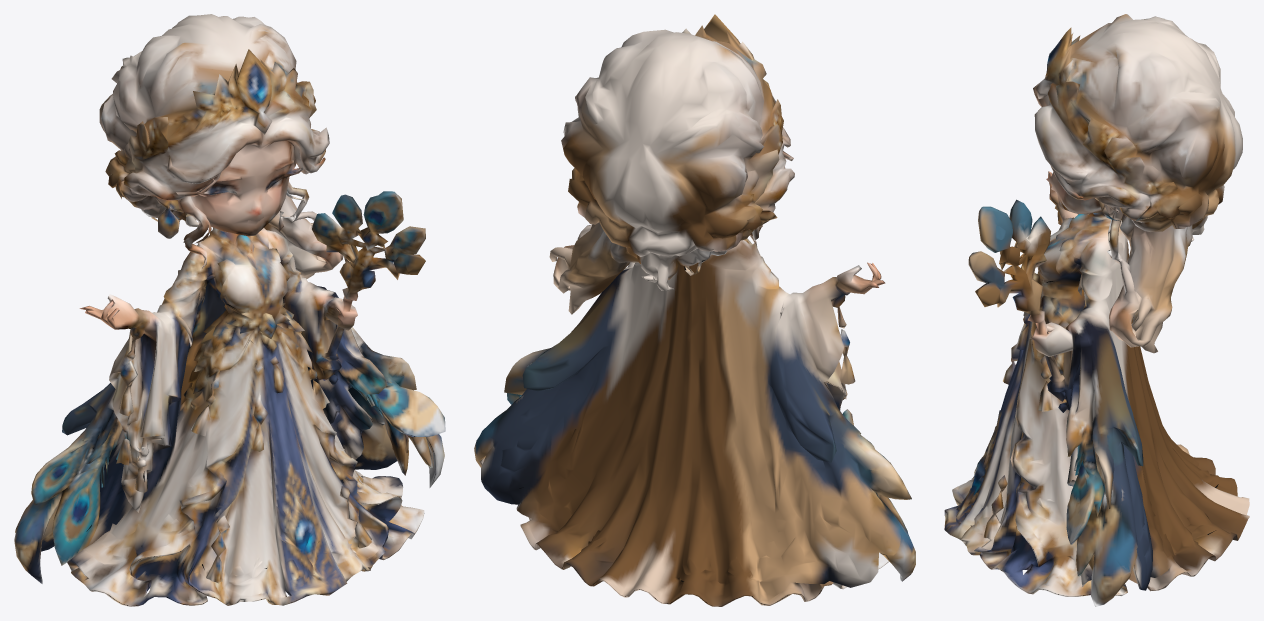
Rendered from hera_painted.glb.
3 views of the same model, side by side, from view 1: azimuth 30°, elevation 25°; view 2: azimuth 150°, elevation 25°; view 3: azimuth 270°, elevation 25° (orthographic). The views are drawn at different scales.
Parts seen in each view (by area): view 1: Body; view 2: Body; view 3: Body.
Boxes of the visible parts, <box> form: Body: <box>14,14,445,606</box>; Body: <box>474,14,915,606</box>; Body: <box>944,14,1249,606</box>.
Size of the model in its own units: 0.8719 by 0.9982 by 0.5525.
1 material, 1 textured.
